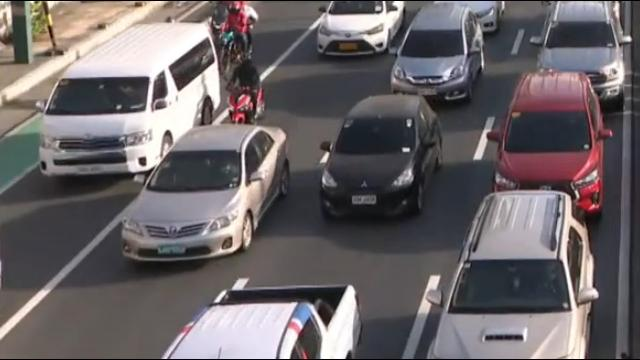car: (426, 201, 597, 360), (118, 127, 292, 264), (310, 97, 441, 225), (492, 76, 611, 206), (533, 0, 635, 103), (392, 3, 482, 98), (298, 0, 407, 62)
motorcycle: (214, 1, 259, 82), (228, 52, 266, 123)
pickup-truck: (153, 281, 385, 360)
van: (37, 24, 220, 180)
